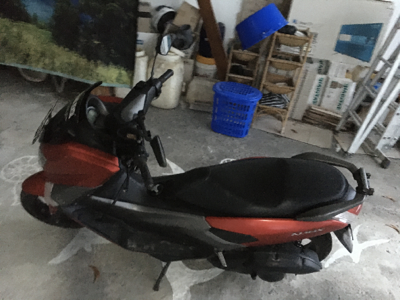moto: (22, 64, 364, 299)
